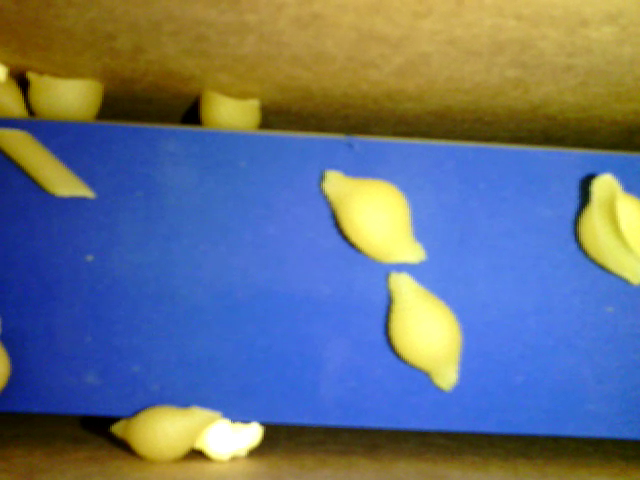penne: (1, 128, 98, 198)
shell: (318, 167, 426, 263), (385, 272, 462, 393), (574, 173, 639, 288), (109, 402, 223, 463), (25, 67, 103, 121), (197, 87, 260, 130)
